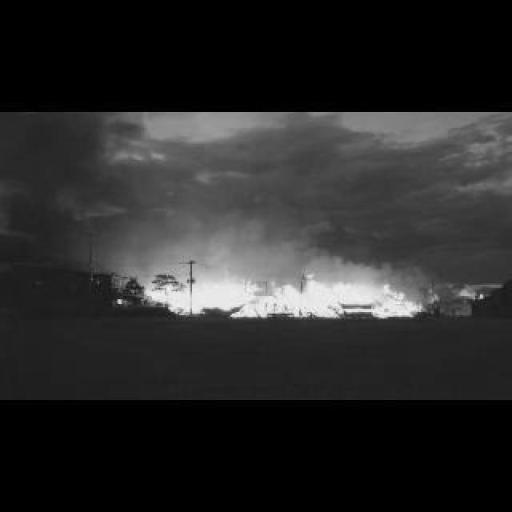smoke: (88, 194, 376, 283), (142, 270, 426, 318), (454, 285, 484, 301), (427, 288, 442, 302), (118, 298, 124, 304)
